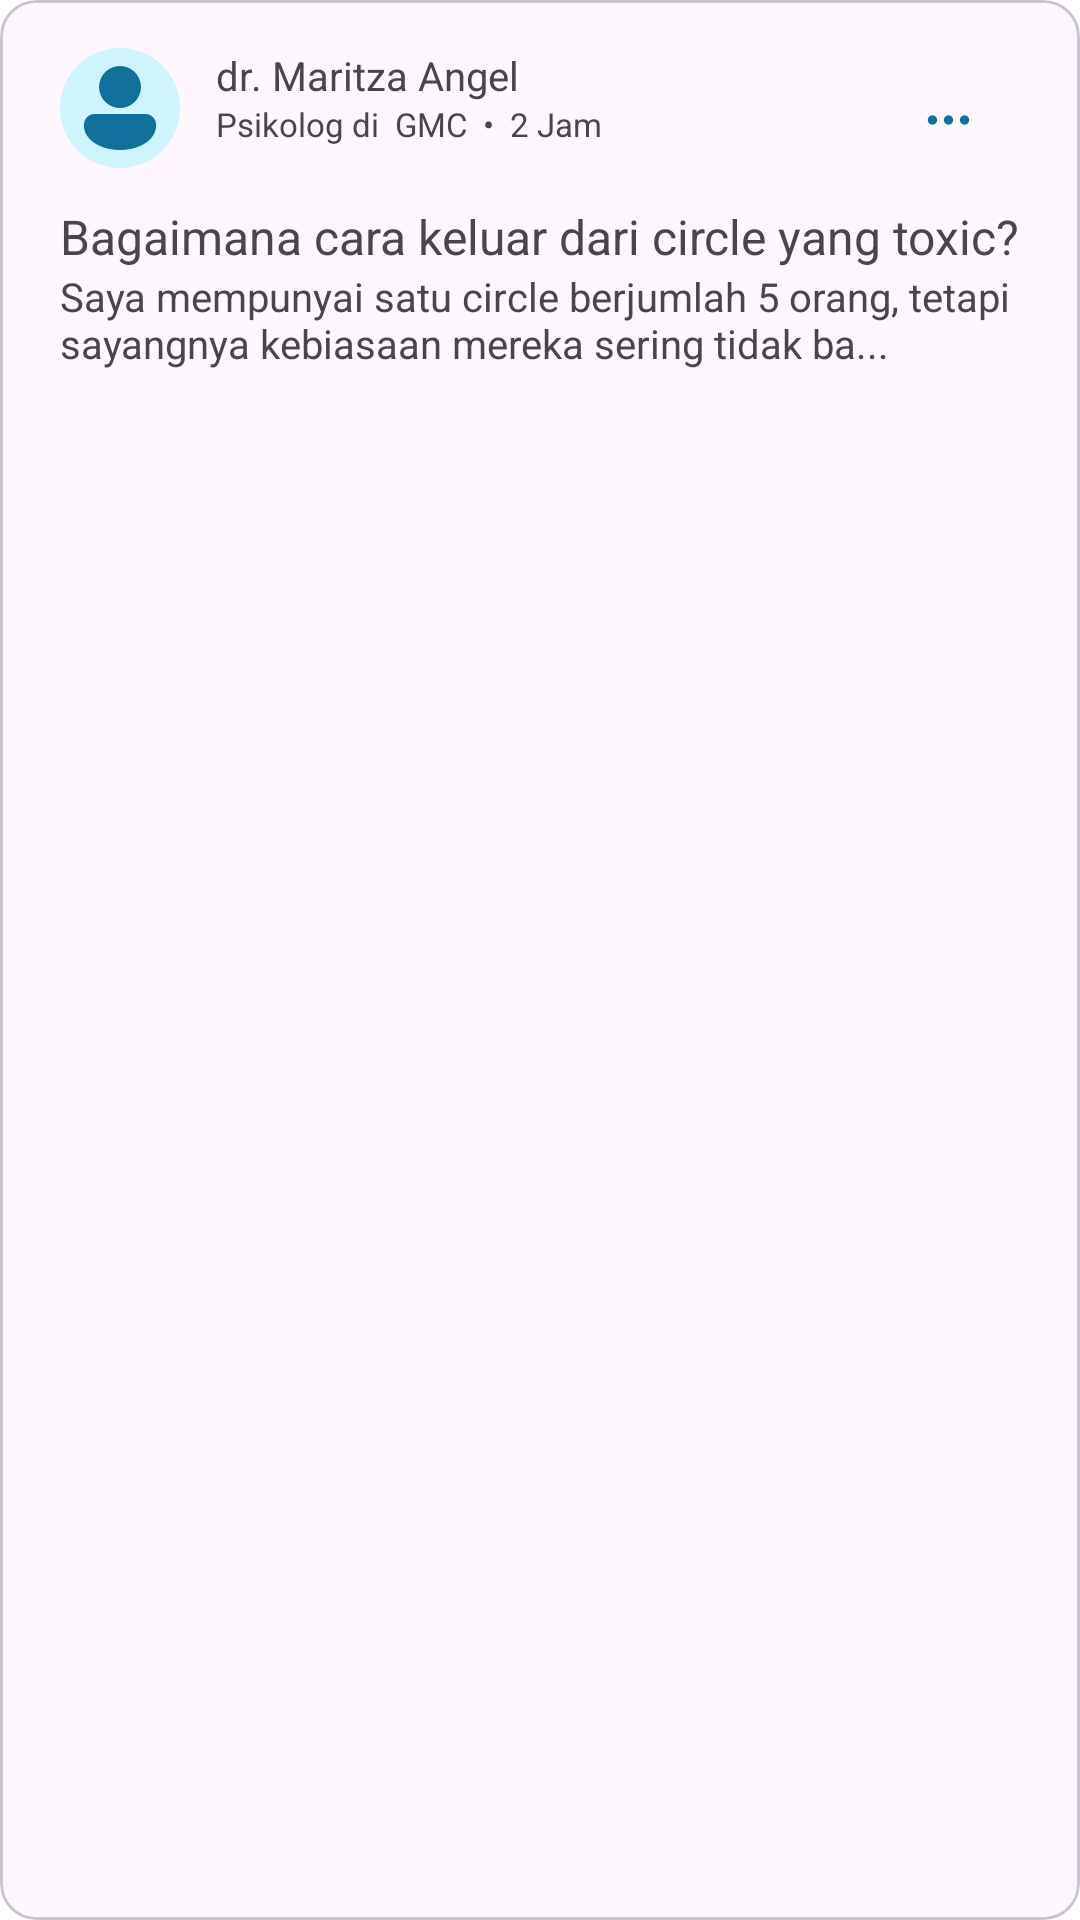

Icon click points for this 1080 × 1920 phone screenshot, format point (x, y):
option: point (948, 120)
user: point (120, 108)
